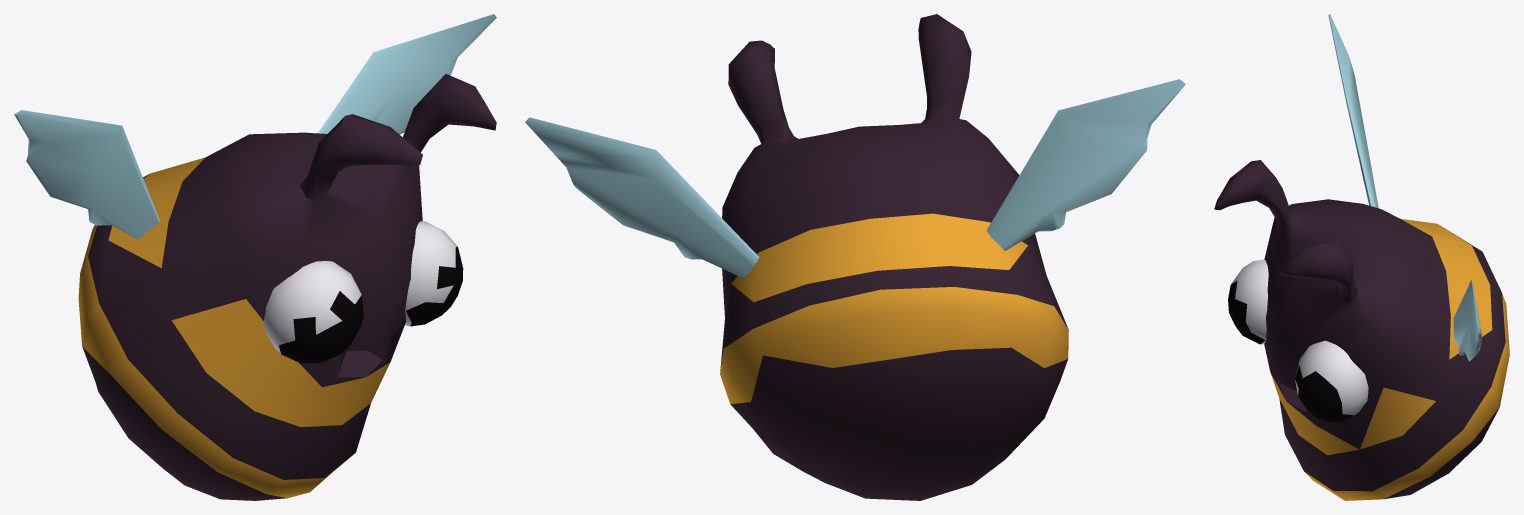
The model's file is bee.glb.
The picture shows the model from 3 angles, left to right: view 1: azimuth 30°, elevation 25°; view 2: azimuth 150°, elevation 25°; view 3: azimuth 270°, elevation 25°; orthographic projection. The views are drawn at different scales.
Parts seen in each view (by area): view 1: Bee; view 2: Bee; view 3: Bee.
Boxes of the visible parts, left/top/right/bottom form: Bee: left=14, top=14, right=496, bottom=500; Bee: left=525, top=14, right=1185, bottom=500; Bee: left=1214, top=14, right=1509, bottom=500.
Bounding box in the file's own units: 0.2402 × 0.1845 × 0.1328.
2 materials, 2 textured.
